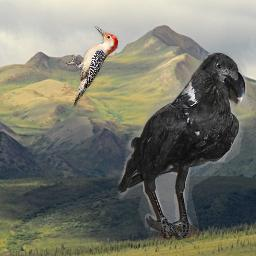Crow: (118, 52, 247, 240)
Woodpecker: (65, 26, 119, 107)
